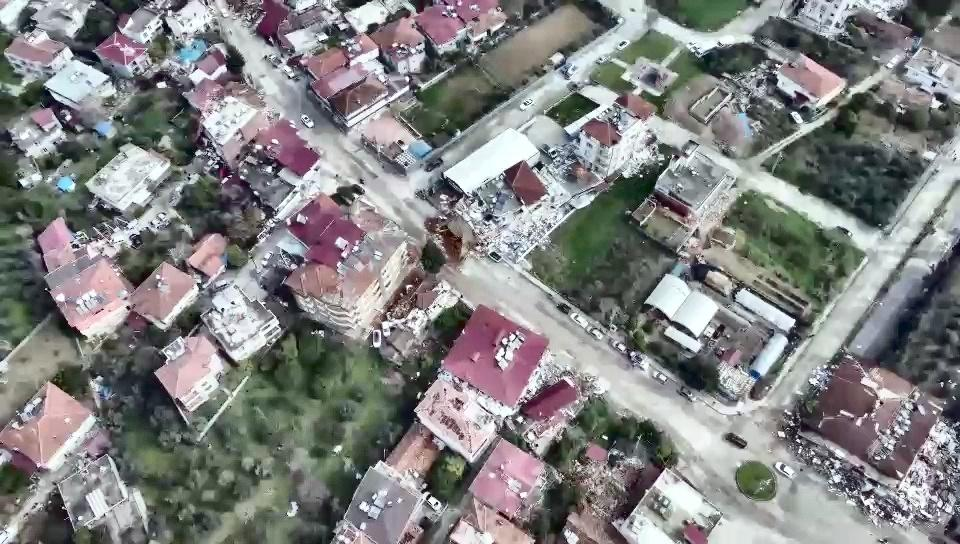kapali: (381, 189, 510, 304)
